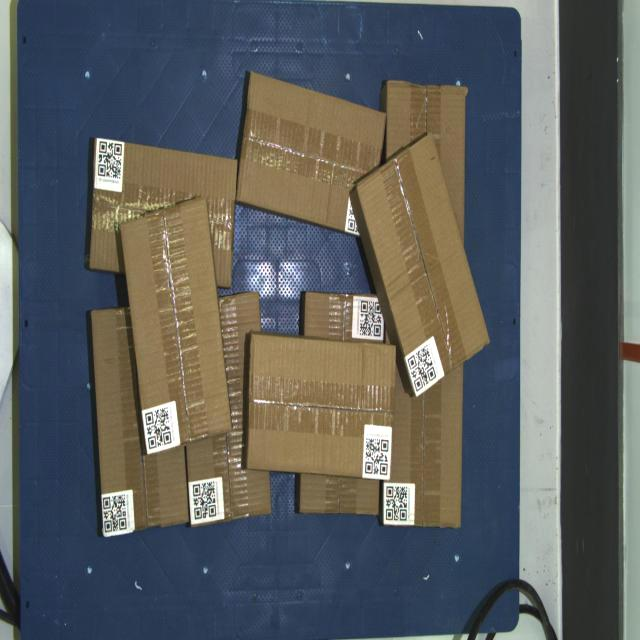box: (356, 132, 490, 398), (121, 197, 231, 456), (235, 71, 386, 236), (247, 335, 396, 481)
